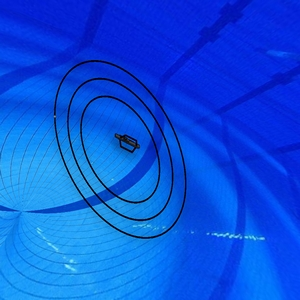circle: (50, 58, 194, 240)
submarine: (113, 131, 145, 158)
